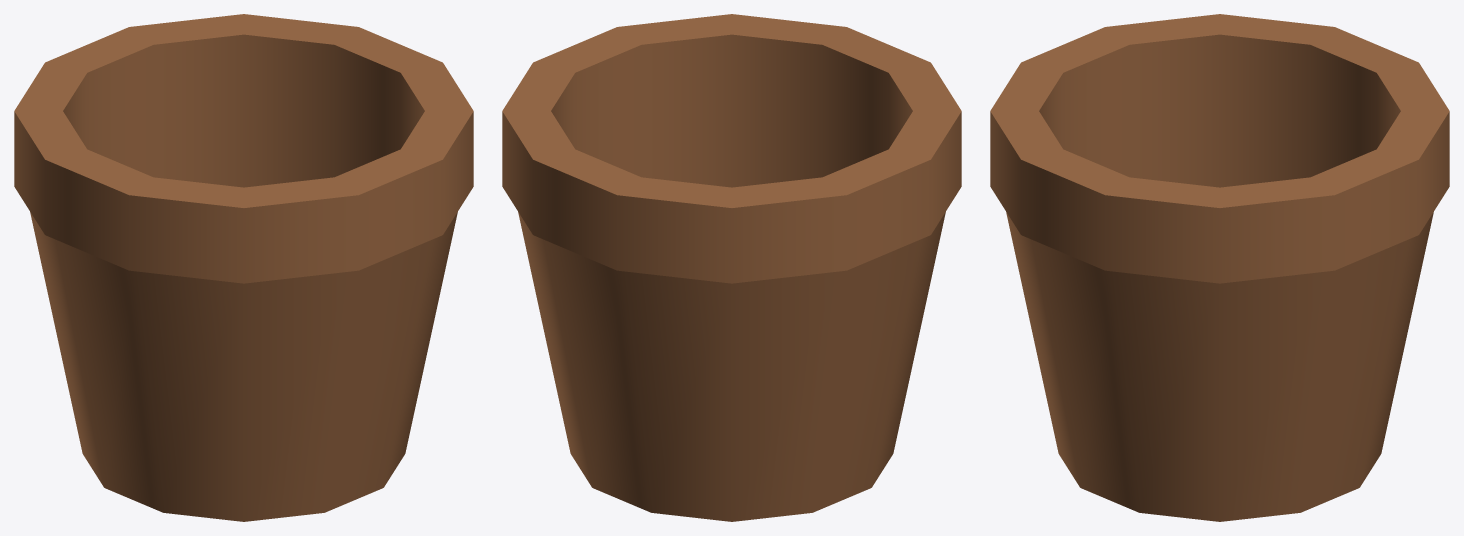
The model's file is Flowerpot.fbx.
3 views of the same model, side by side, from view 1: azimuth 30°, elevation 25°; view 2: azimuth 150°, elevation 25°; view 3: azimuth 270°, elevation 25° (orthographic).
Parts seen in each view (by area): view 1: Flowerpot; view 2: Flowerpot; view 3: Flowerpot.
Part boxes in pixels (<box>): Flowerpot: <box>14,14,473,521</box>; Flowerpot: <box>502,14,961,521</box>; Flowerpot: <box>990,14,1449,521</box>.
Bounding box in the file's own units: 0.00157 × 0.00129 × 0.00157.
